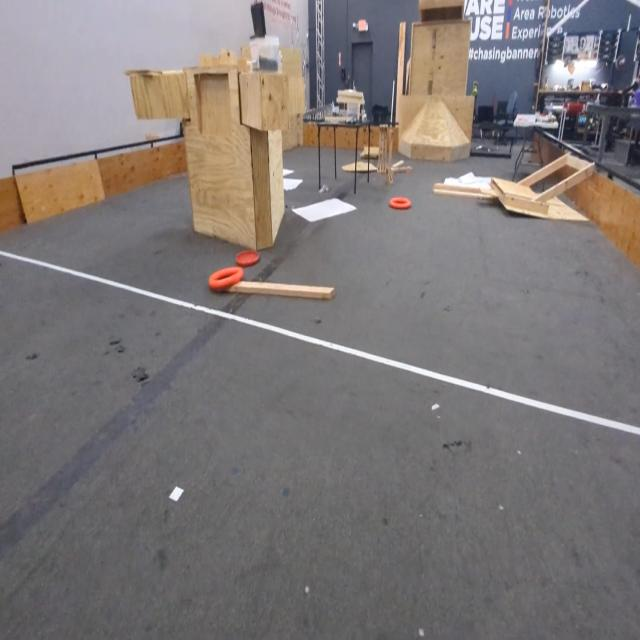note: (208, 266, 243, 293), (388, 197, 411, 212)
